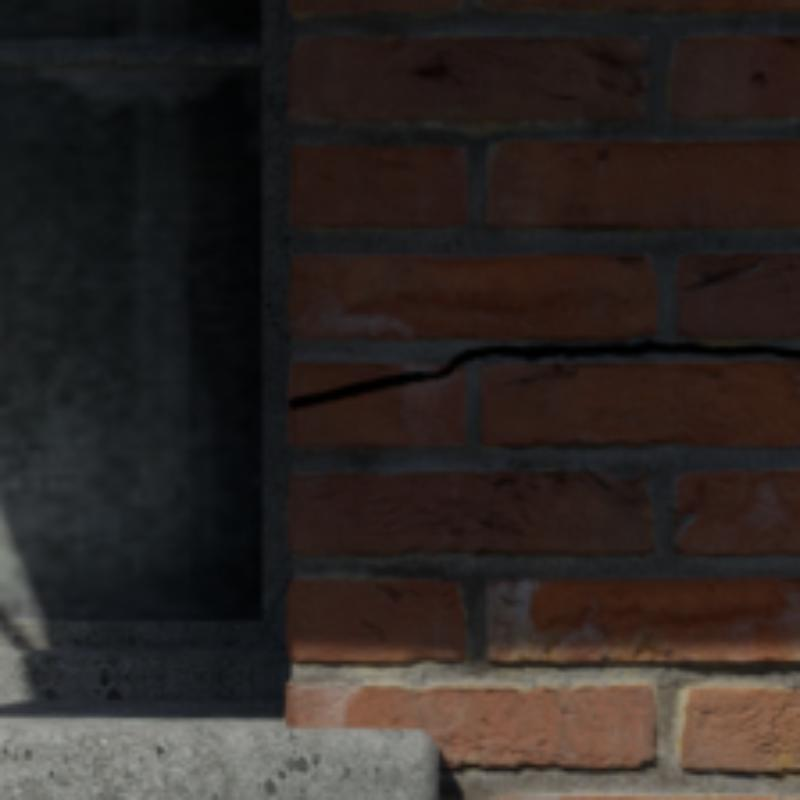crack: (293, 343, 796, 407)
